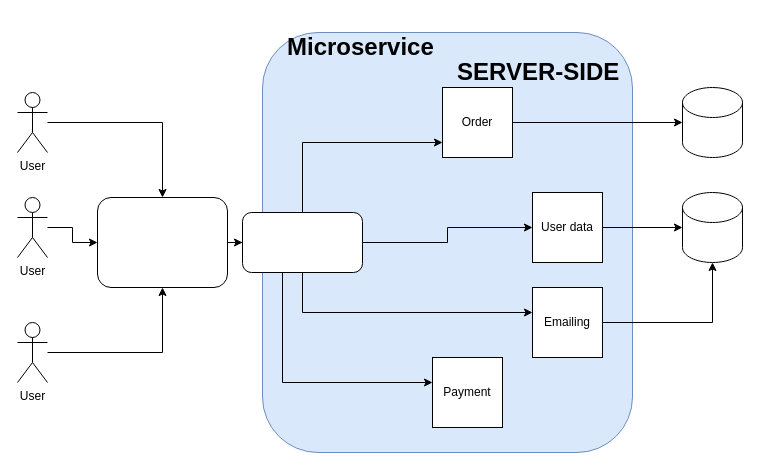
Some shapes in this 760 by 470 pixel diagram are drawn without their labels. Each missing label, with the box of its shape:
GATEWAY: (242, 212, 362, 272)
USER INTERFACE: (96, 196, 228, 288)
